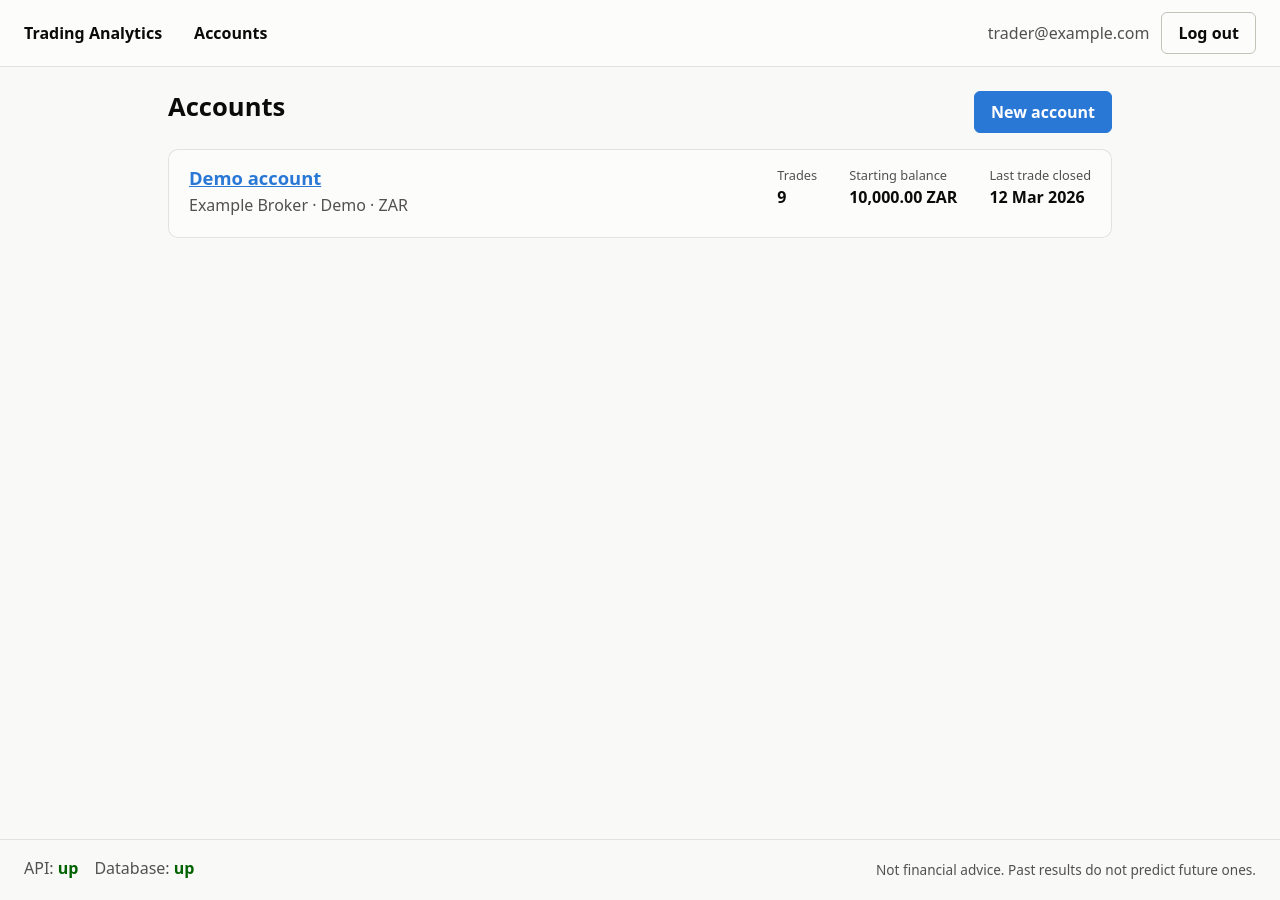
Test: accounts › creates an account and opens it
The width and height of the screenshot is (1280, 900).
Click the button "New account" at (1043,112), box [974,91,1112,133]
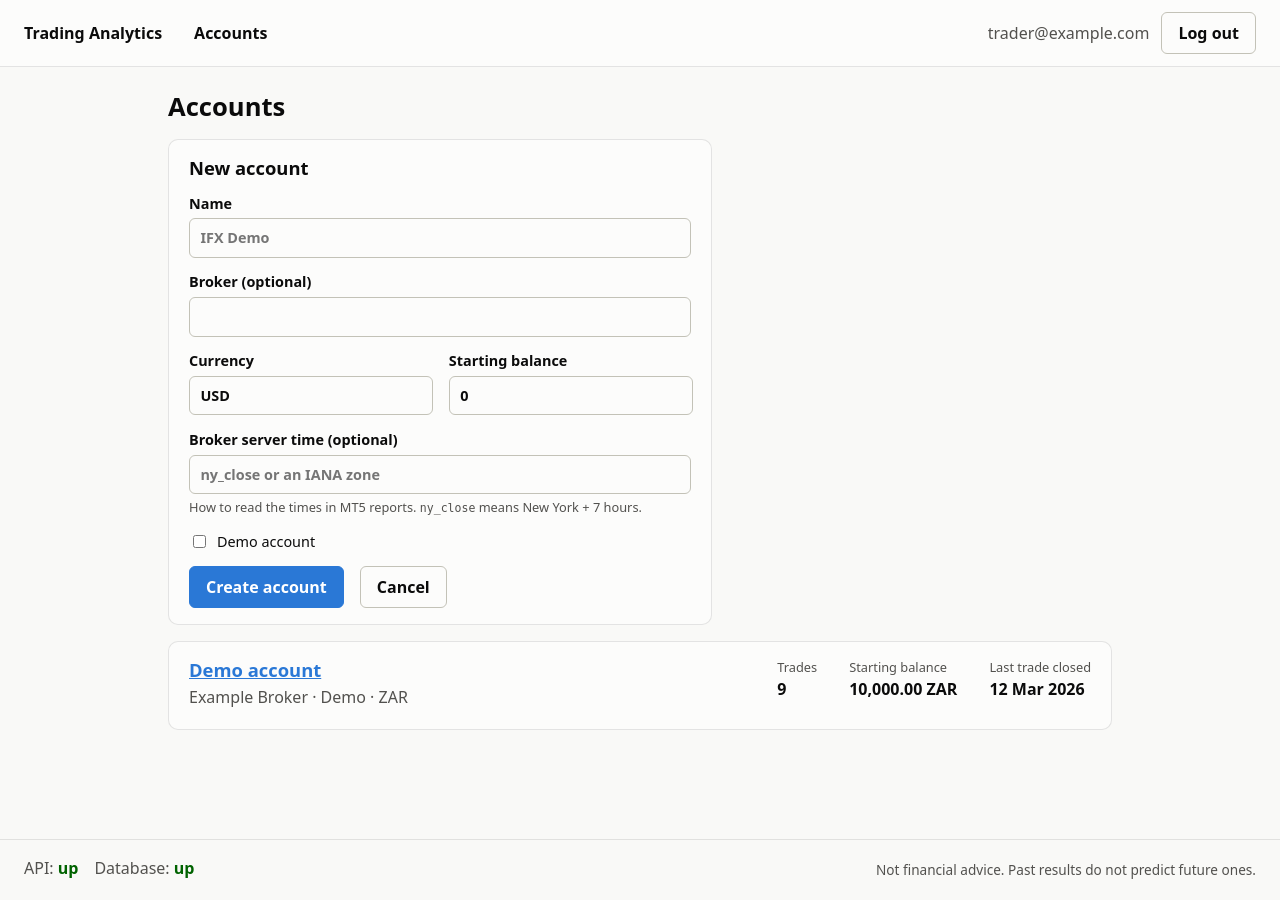
Type "  My IFX " into the field labelled "Name" at (440,238), box [189,218,691,258]
Replace the text in the field labelled "Currency" with "zar" at (311,396), box [189,376,433,415]
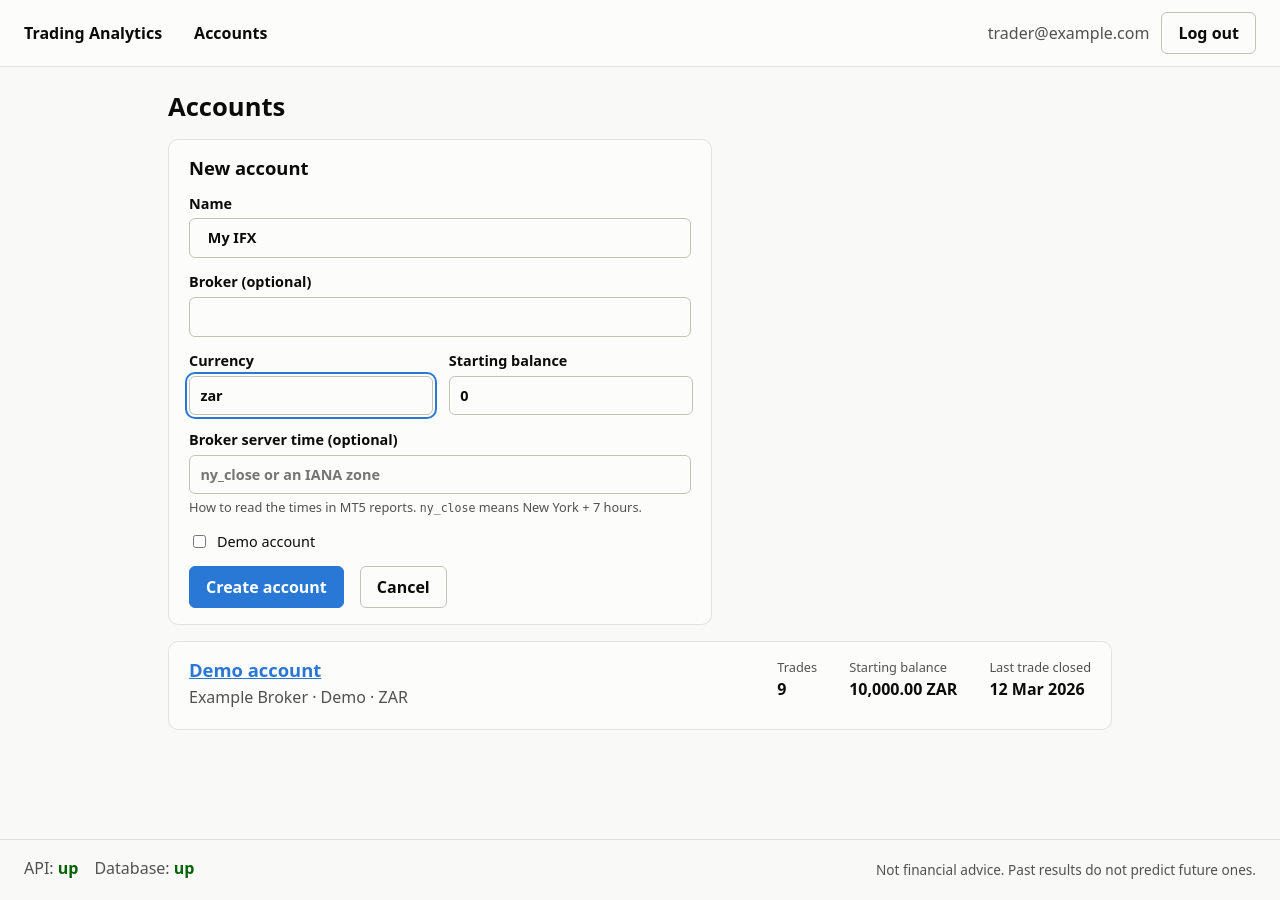
Replace the text in the field labelled "Starting balance" with "5000.50" at (571,396), box [449,376,693,415]
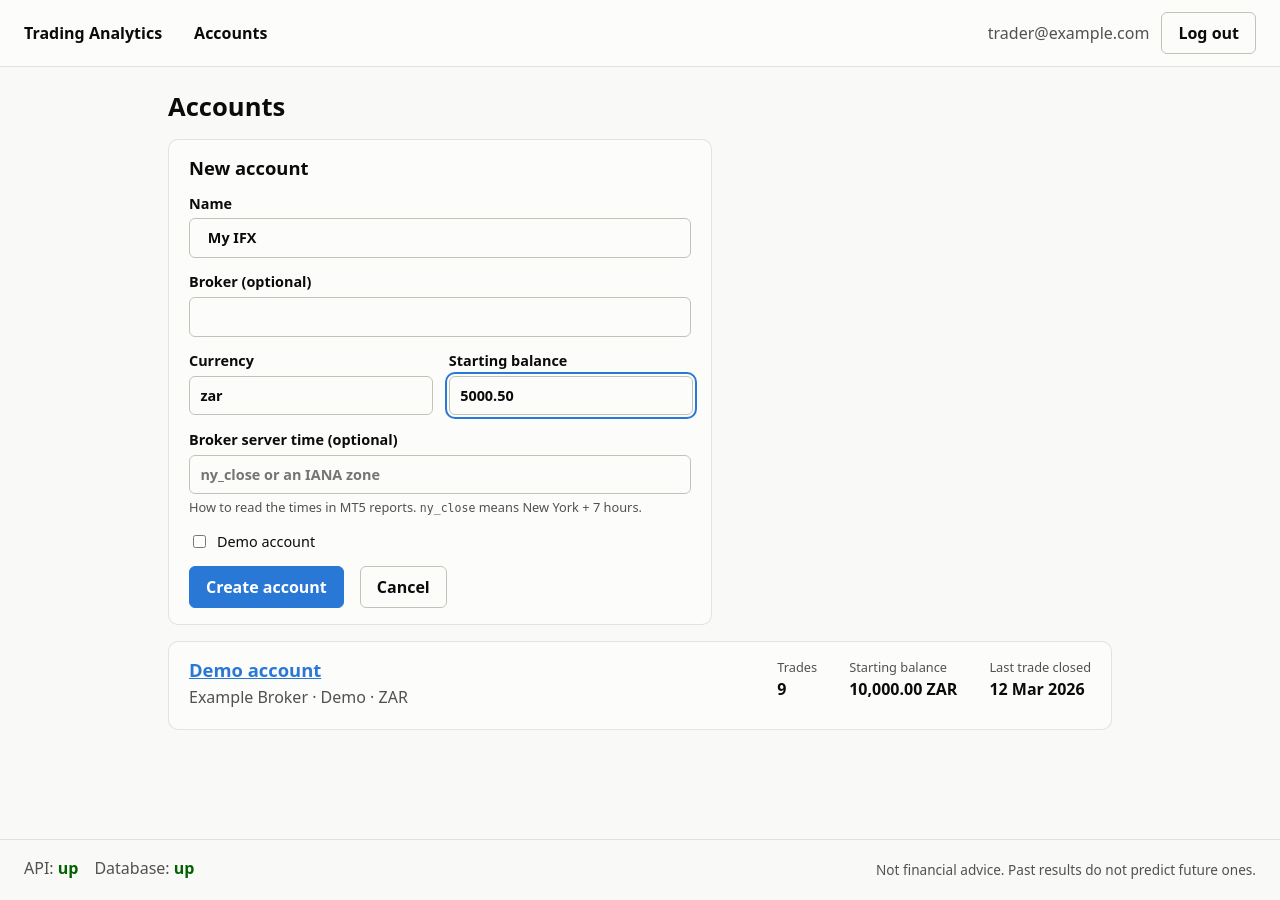
Type "ny_close" into the field labelled "Broker server time" at (440,474), box [189,454,691,494]
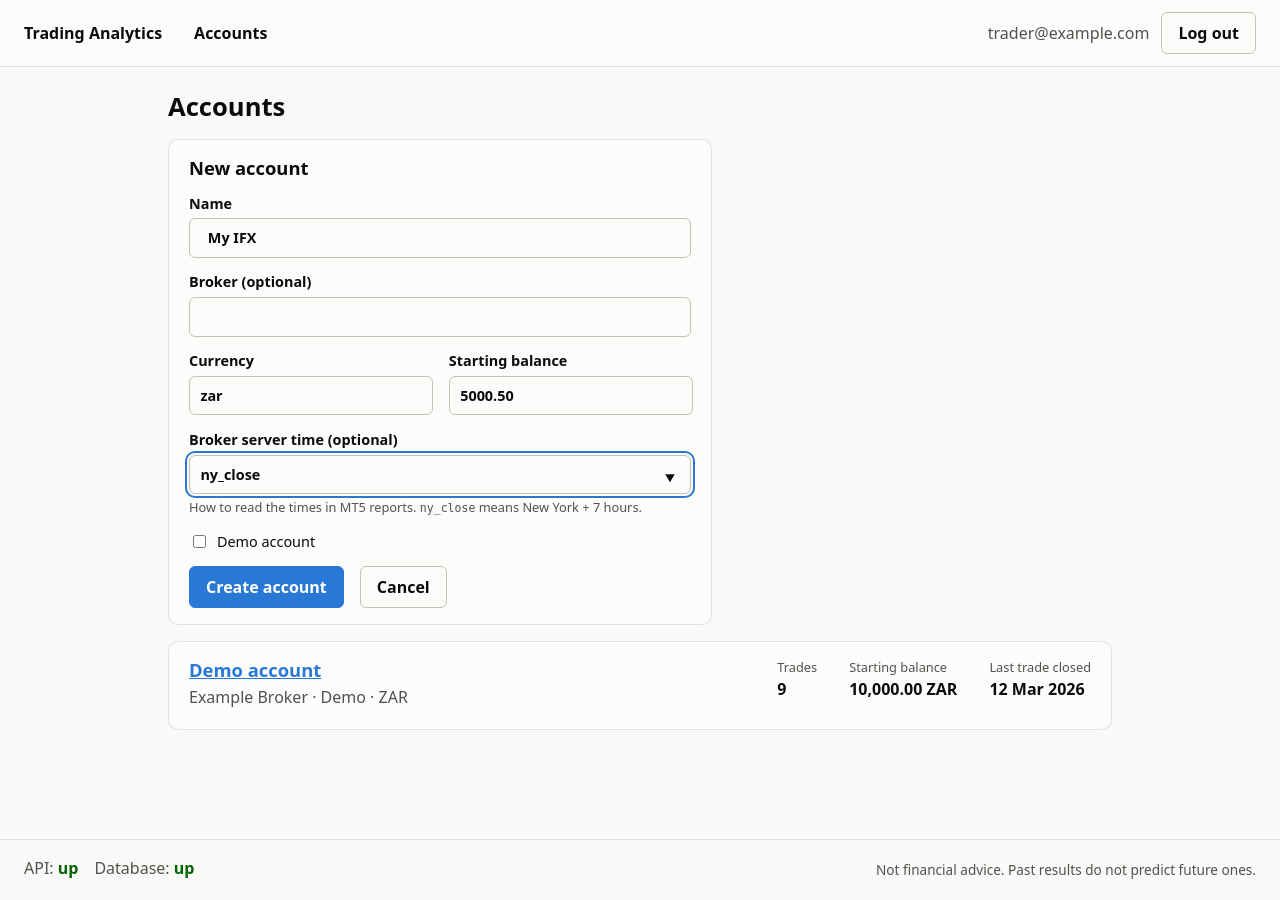
Click the checkbox labelled "Demo account" at (200,542), box [193,535,206,548]
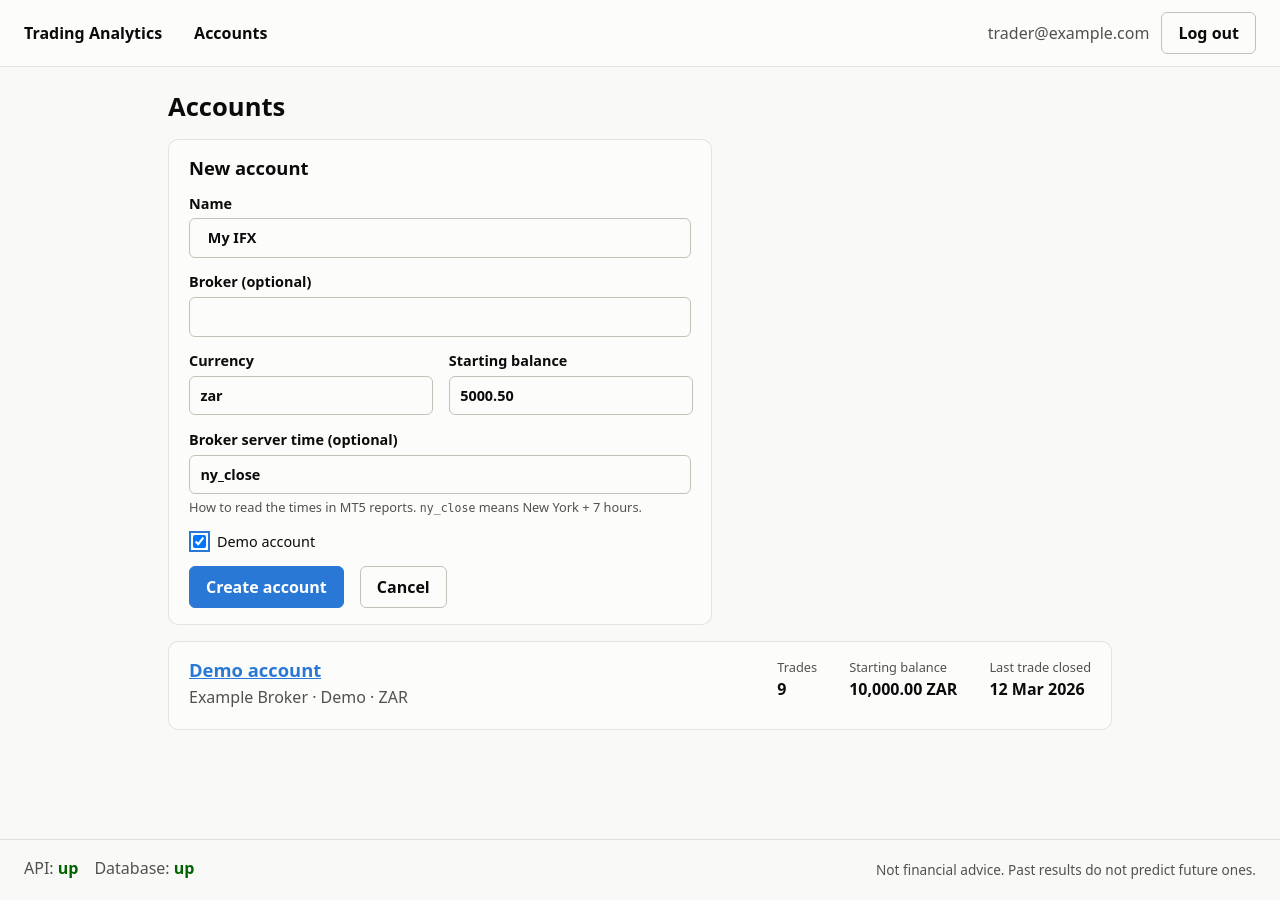
Click the button "Create account" at (266,587), box [189,566,344,608]
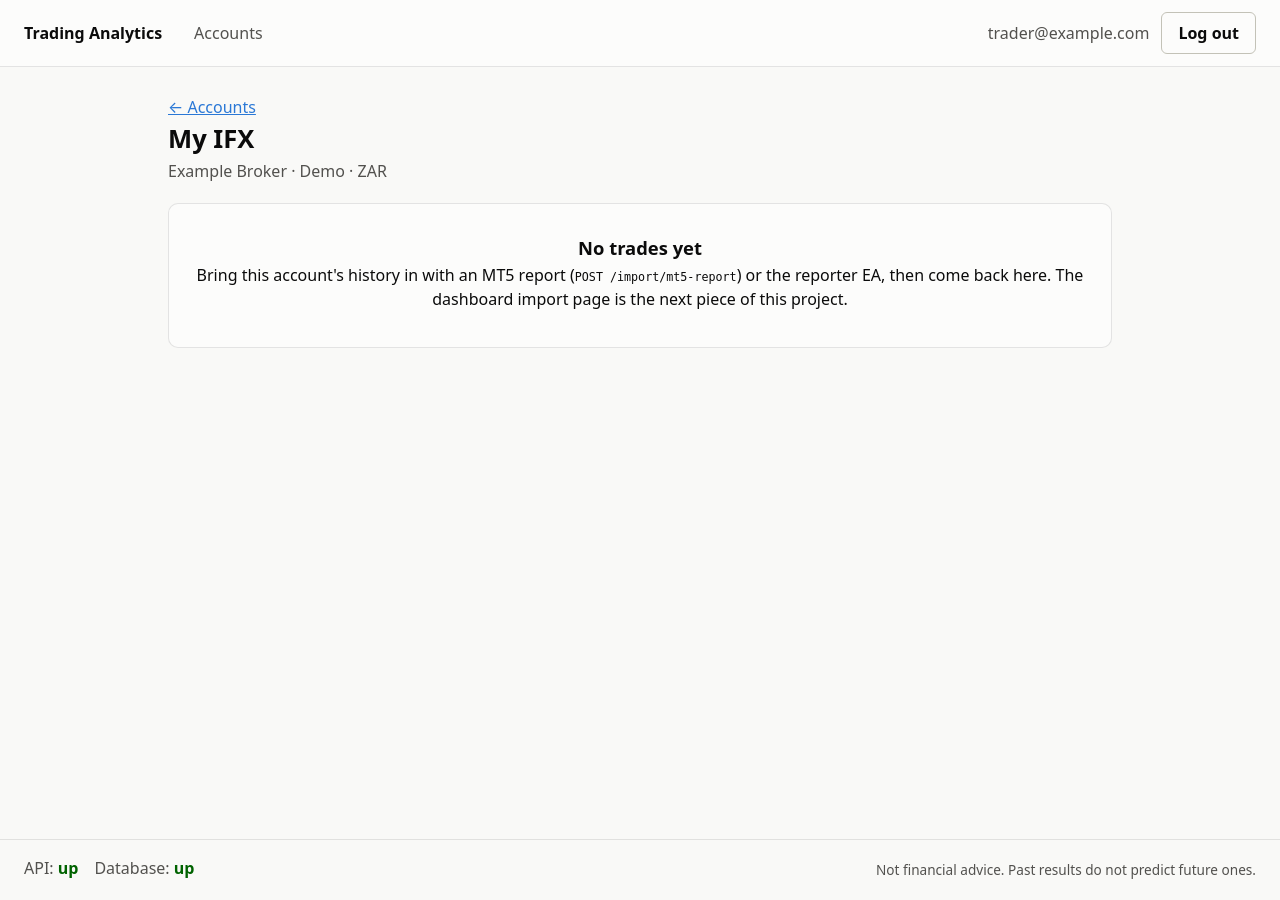
Check: the heading "My IFX" is shown, box [168,121,254,156]
Check: the heading "No trades yet" is shown, box [578,235,702,260]
